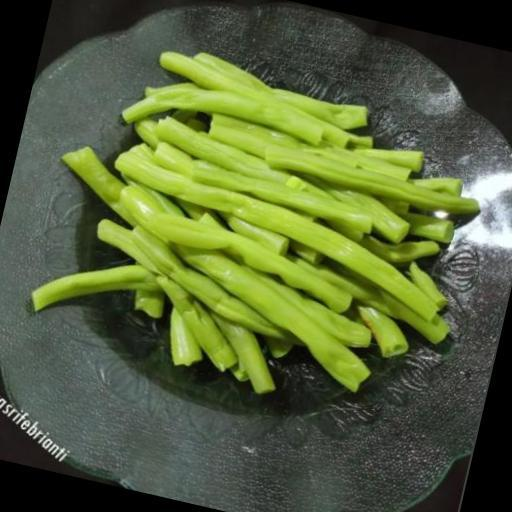buncis_rebus: (11, 12, 512, 450)
